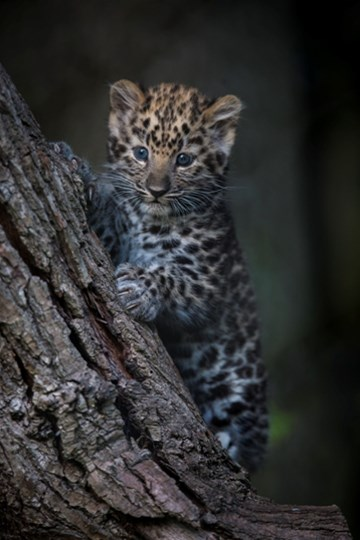amur_leopard: (53, 62, 302, 409)
